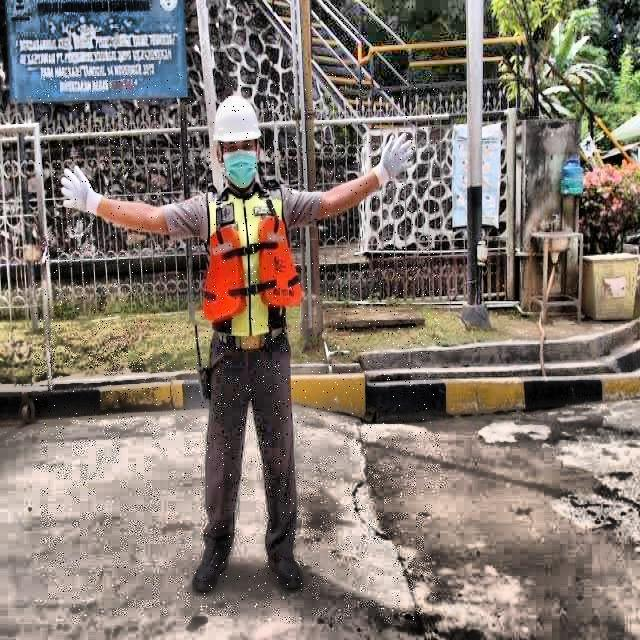safety_helmet: (212, 94, 263, 145)
safety_jacket: (201, 183, 304, 345)
